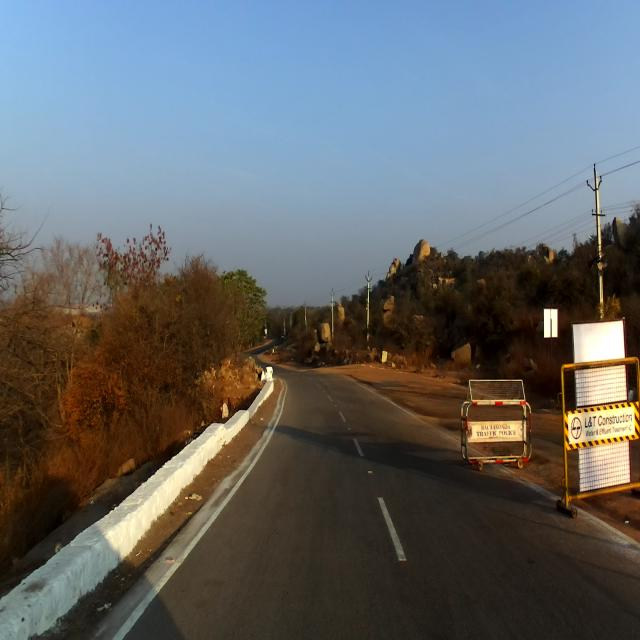barrier ahead at: (557, 354, 640, 512), (458, 380, 533, 469)
